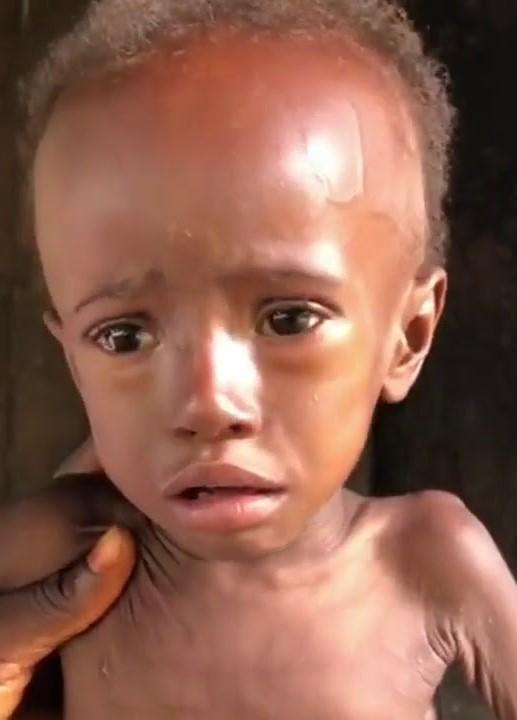Stunting: (48, 30, 452, 574)
